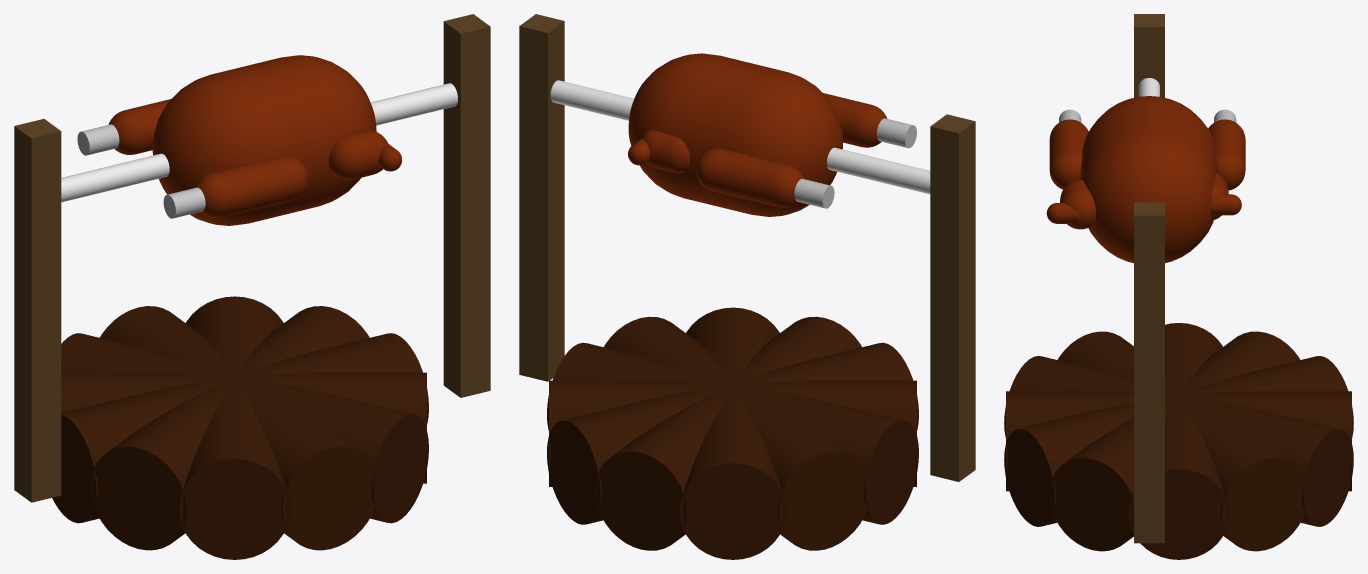
The model's file is rotisserie.fbx.
3 views of the same model, side by side, from view 1: azimuth 30°, elevation 25°; view 2: azimuth 150°, elevation 25°; view 3: azimuth 270°, elevation 25° (orthographic). The views are drawn at different scales.
Visible parts, largest first — view 1: Chicken_1, Cube, Cube_1, Cylinder_2, Cylinder_3, Cylinder_1, Cylinder_4, Firecamp, Cylinder_5, rotisserie; view 2: Chicken_1, Cube, Cube_1, Cylinder_4, Cylinder_3, Cylinder_5, Firecamp, Cylinder_2, Cylinder_1, rotisserie; view 3: Chicken_1, Cylinder_1, Cylinder_5, Cube_1, Cylinder_2, Cylinder_4, Firecamp, Cylinder_3, Cube.
Boxes of the visible parts, box(x1,y1,x2,y2) form: Chicken_1: box(77, 55, 401, 225); Cube: box(14, 119, 61, 502); Cube_1: box(443, 14, 490, 397); Cylinder_2: box(179, 296, 290, 559); Cylinder_3: box(100, 306, 378, 550); Cylinder_1: box(90, 306, 369, 550); Cylinder_4: box(61, 333, 428, 523); Firecamp: box(52, 333, 428, 523); Cylinder_5: box(61, 372, 426, 483); rotisserie: box(61, 83, 457, 202); Chicken_1: box(628, 53, 916, 216); Cube: box(930, 114, 975, 481); Cube_1: box(519, 14, 564, 381); Cylinder_4: box(679, 307, 786, 559); Cylinder_3: box(594, 316, 861, 550); Cylinder_5: box(604, 316, 871, 550); Firecamp: box(547, 342, 918, 524); Cylinder_2: box(547, 342, 918, 524); Cylinder_1: box(549, 380, 916, 486); rotisserie: box(550, 80, 930, 194); Chicken_1: box(1046, 96, 1245, 263); Cylinder_1: box(1057, 331, 1308, 551); Cylinder_5: box(1049, 331, 1300, 551); Cube_1: box(1134, 202, 1164, 543); Cylinder_2: box(1004, 356, 1353, 526); Cylinder_4: box(1004, 356, 1353, 526); Firecamp: box(1128, 323, 1229, 559); Cylinder_3: box(1006, 391, 1351, 491); Cube: box(1134, 14, 1164, 97).
Bounding box in the file's own units: 154 × 133 × 113.
